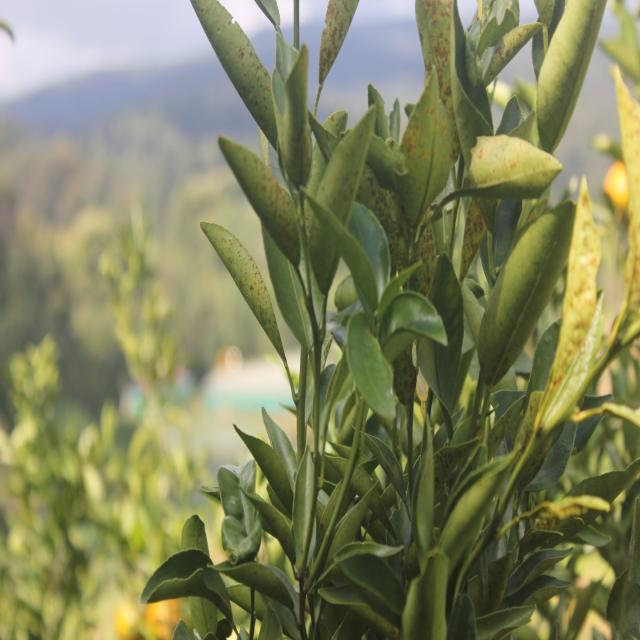melanose: (527, 175, 610, 411), (193, 0, 285, 136), (208, 219, 282, 362), (388, 70, 452, 221), (228, 128, 300, 259), (414, 2, 466, 161), (314, 0, 358, 86)
